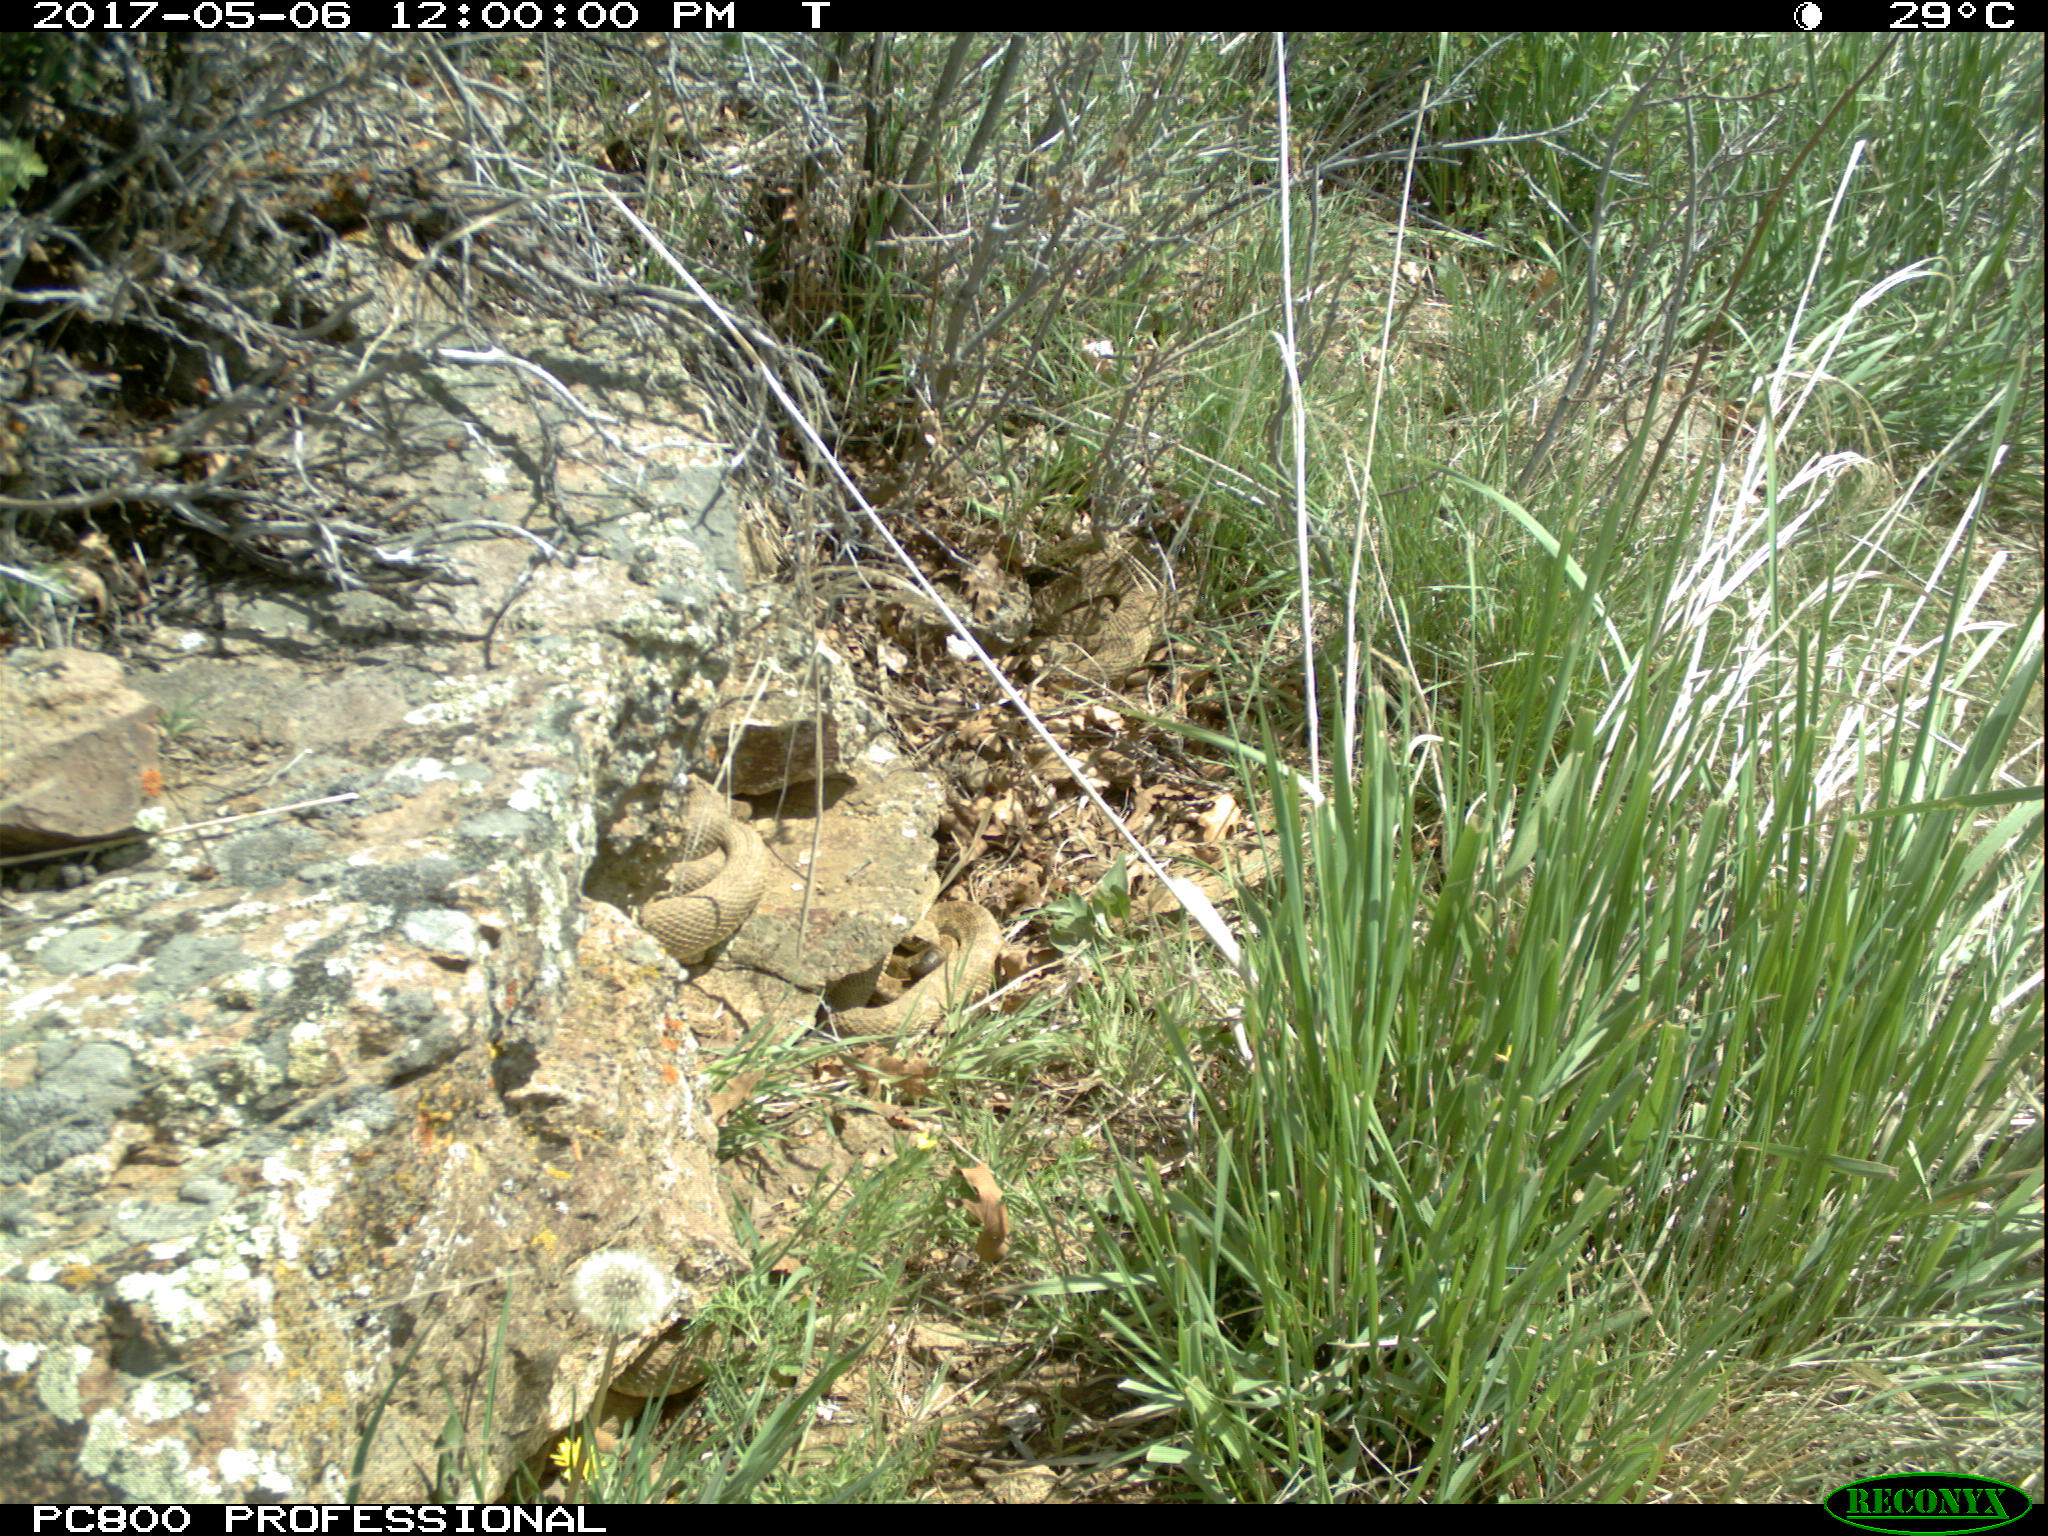snake: (1014, 537, 1193, 682), (827, 899, 1001, 1033), (643, 771, 768, 942), (614, 1342, 735, 1400)
